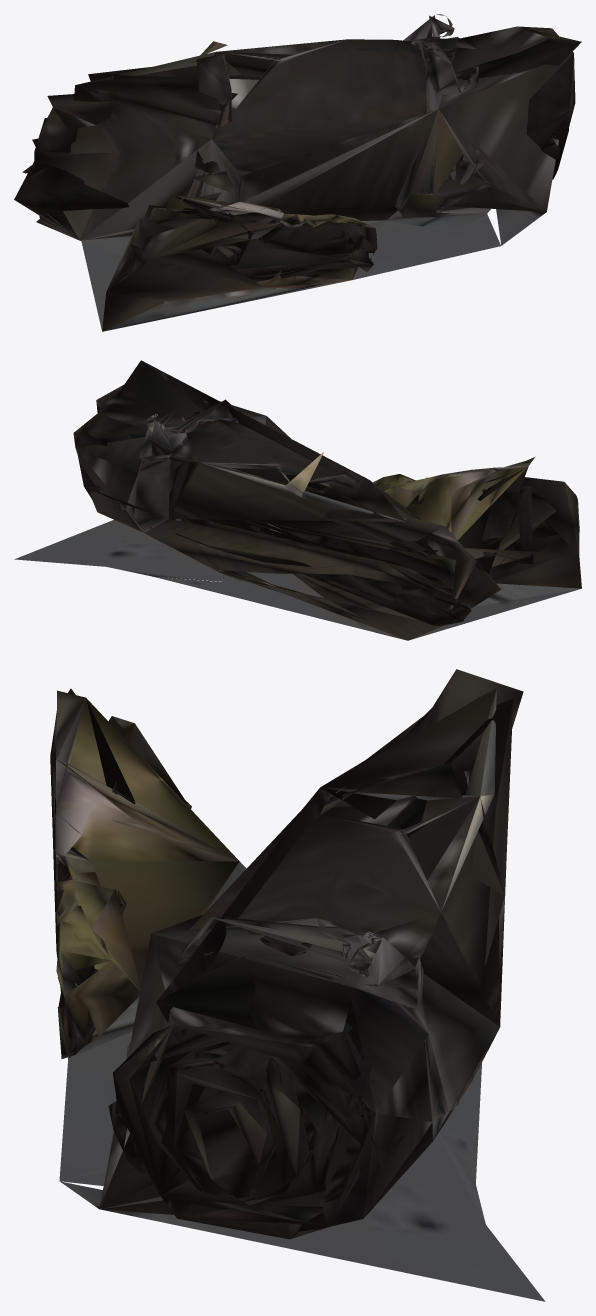
Rendered from couro_orc_quebrarocha.glb.
3 renders of one model, top to bottom at view 1: azimuth 30°, elevation 25°; view 2: azimuth 150°, elevation 25°; view 3: azimuth 270°, elevation 25°, orthographic. The views are drawn at different scales.
Visible parts, largest first — view 1: geometry_0; view 2: geometry_0; view 3: geometry_0.
Boxes of the visible parts, x1,y1,x2,y2 form: geometry_0: [14, 14, 581, 331]; geometry_0: [14, 360, 581, 640]; geometry_0: [50, 669, 545, 1301].
Bounding box in the file's own units: 1 × 0.3168 × 0.4701.
Materials: 1 (1 with a texture image).
